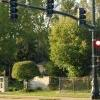traffic lights: (8, 0, 19, 20), (78, 6, 87, 29), (46, 0, 55, 16), (92, 40, 100, 57)
